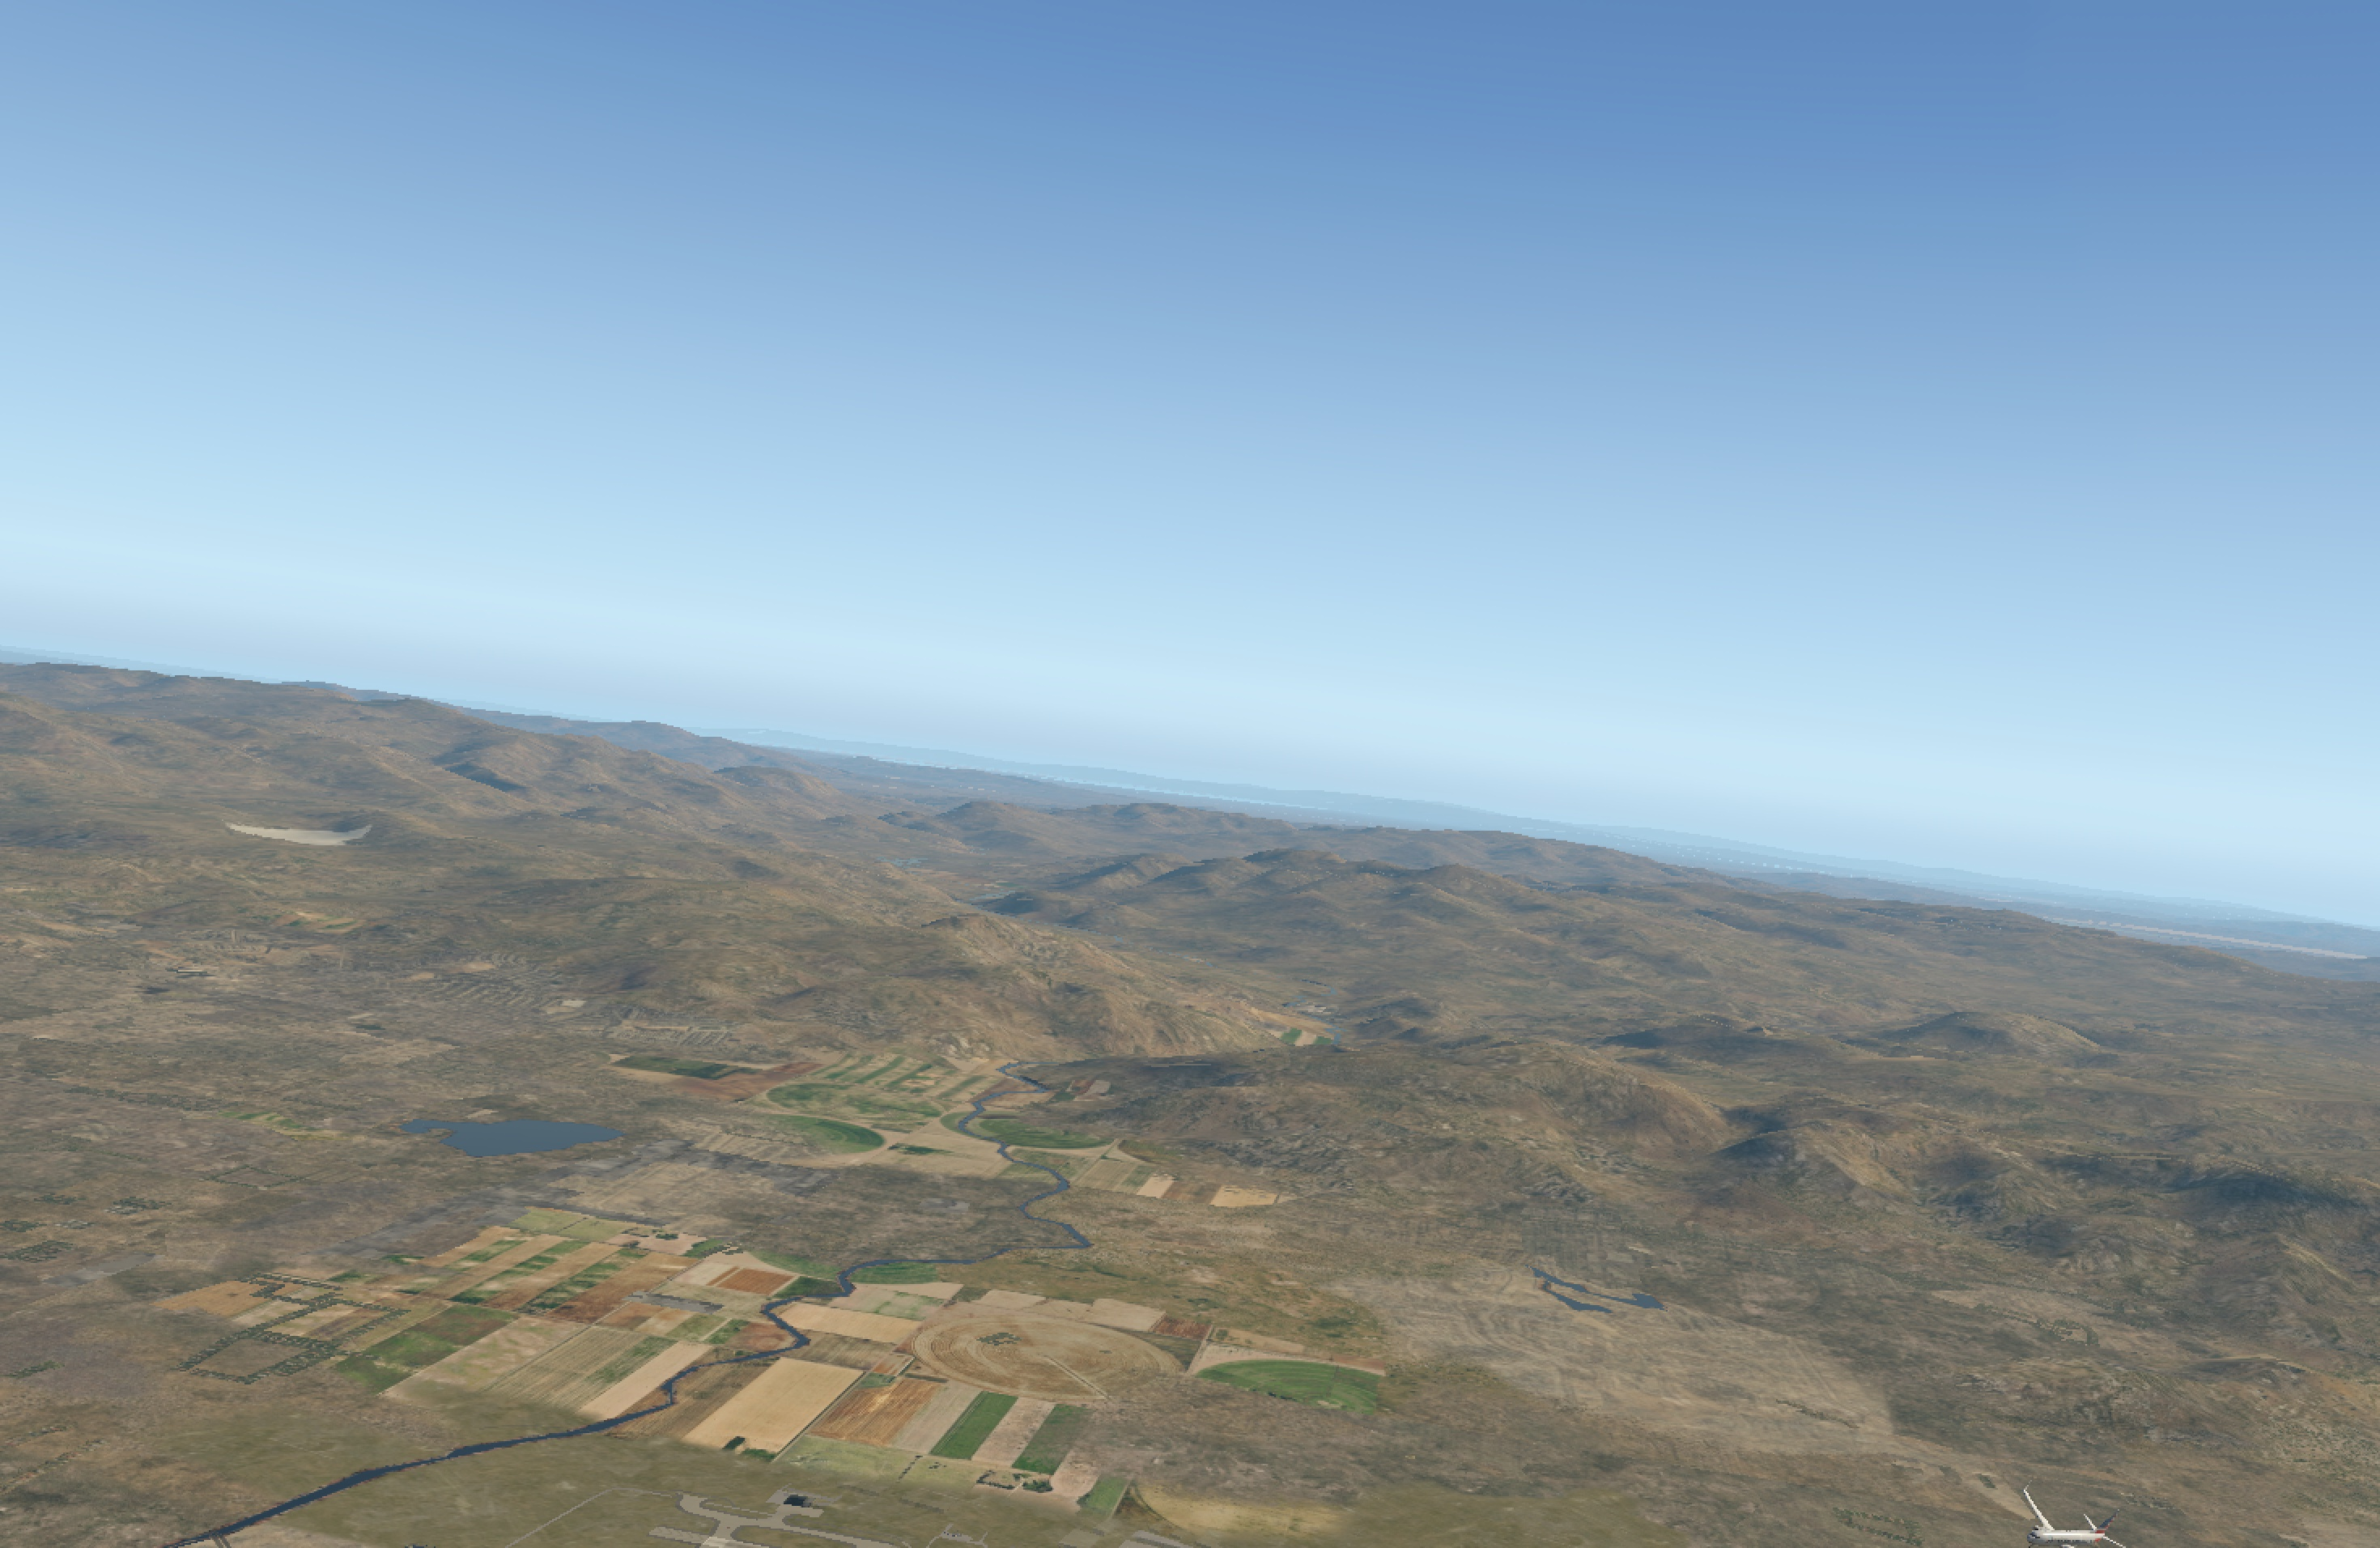aircraft: (1995, 1515, 2130, 1548)
